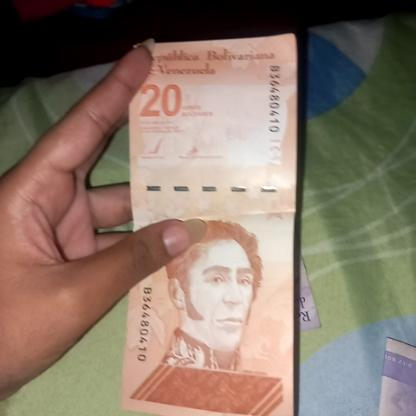twenty-front-vef: (120, 32, 295, 416)
